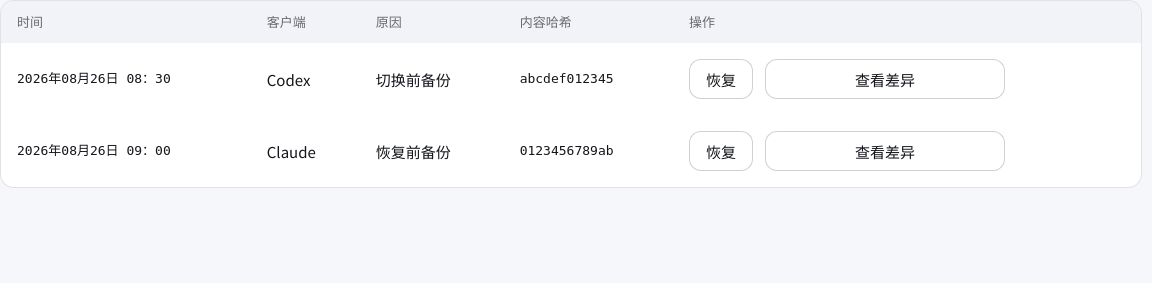
BackupHistory › collapses the difference on a second click and reuses the cached result
What coordinates should you click on to do the following:
click the button "查看差异" in the row of "2026年08月26日 08：30"
I would click on:
 (885, 79)
Its box is [765,59,1005,99].
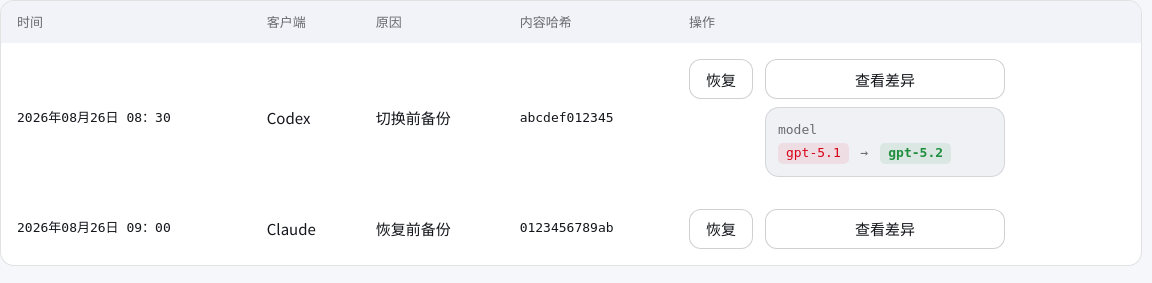
Expected: the text "gpt-5.2" is shown, [880,143,951,164]
What coordinates should you click on to do the following:
click the 1st button "查看差异"
I would click on:
 (885, 79)
Its box is [765,59,1005,99].
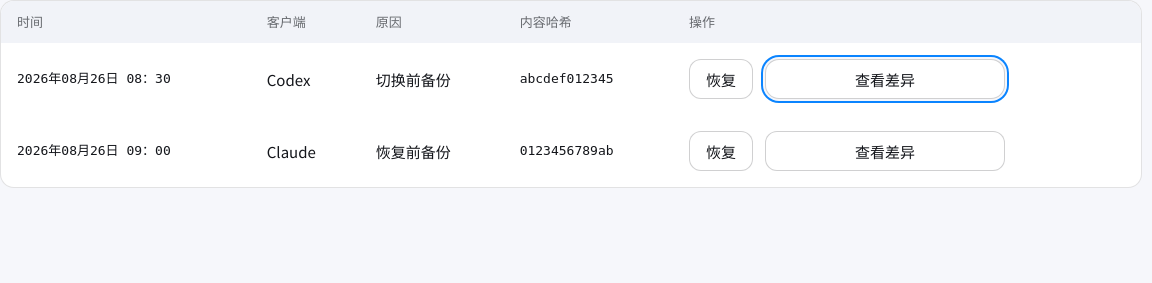
Expected: the text "gpt-5.2" is gone
What coordinates should you click on to do the following:
click the button "查看差异" in the row of "2026年08月26日 08：30"
I would click on:
 (885, 79)
Its box is [765,59,1005,99].
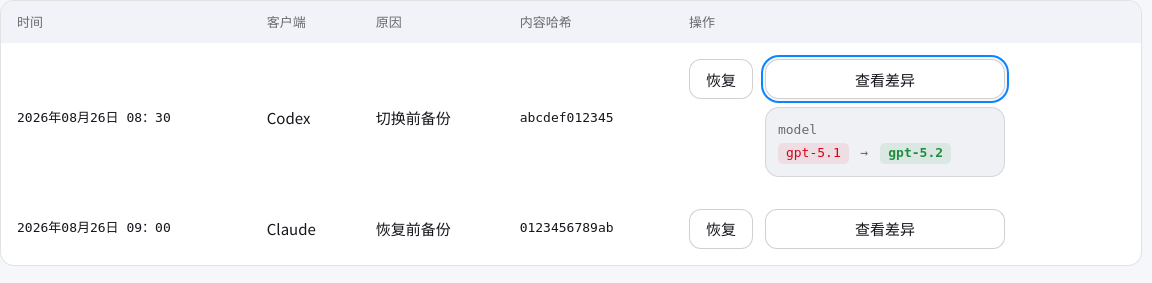
Expected: the text "gpt-5.2" is shown, [880,143,951,164]
